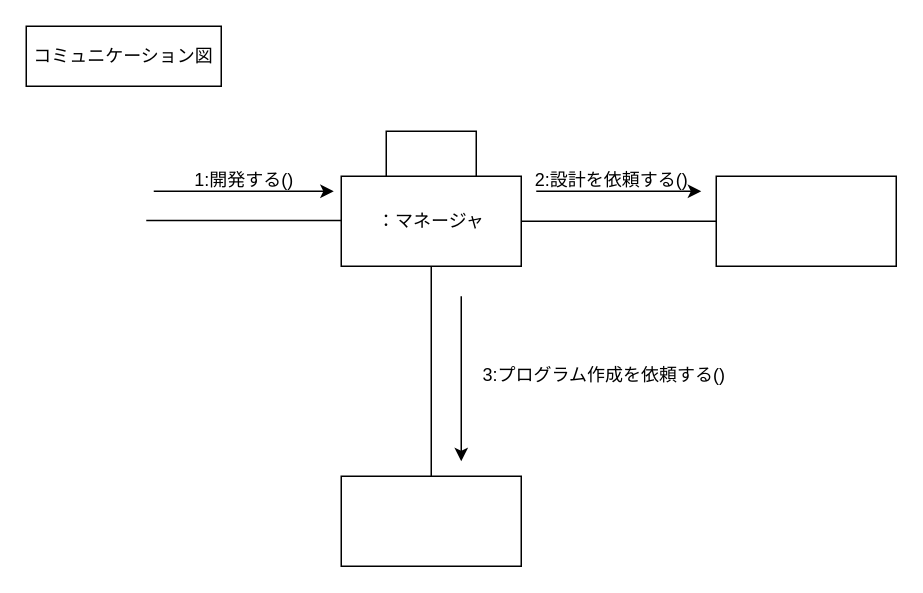
The diagram is 923 pixels wide and 593 high, and some of its shapes have lost their labels. The shapes that lost their labels are listed below. From the top down, each one's centre as x and y in pixels, then its label:
At [805,220]: "：デザイナ".
At [430,520]: "：プログラマ".
